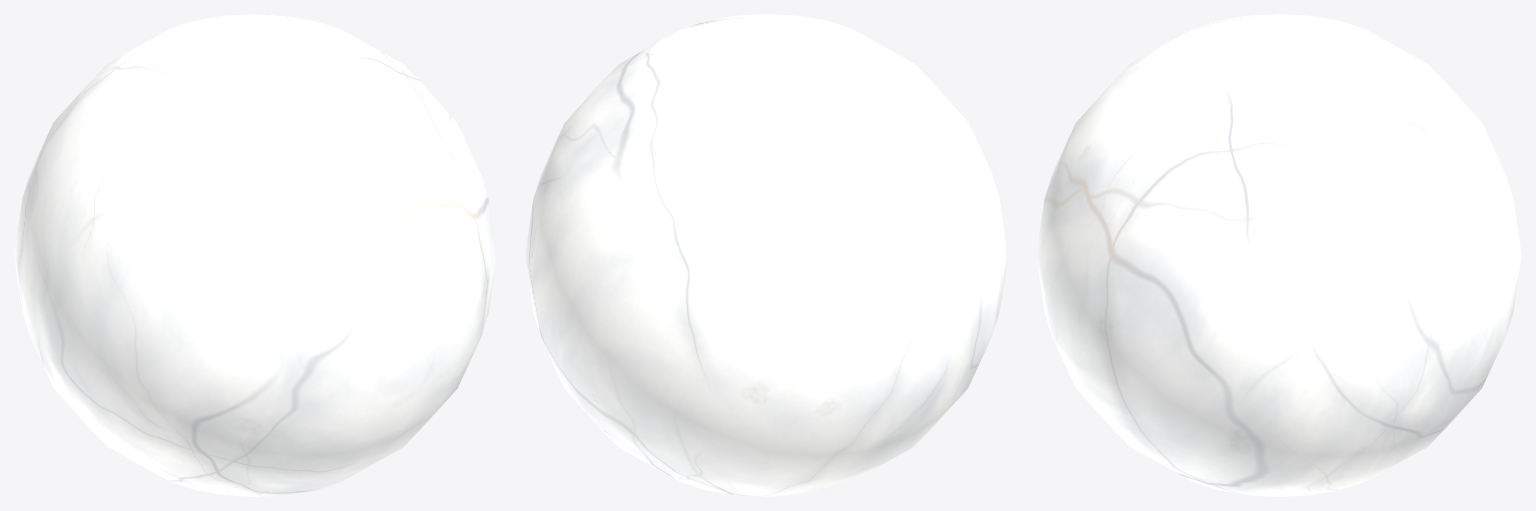
Rendered from level.gltf.
3 renders of one model, left to right at view 1: azimuth 30°, elevation 25°; view 2: azimuth 150°, elevation 25°; view 3: azimuth 270°, elevation 25°, orthographic.
Visible parts, largest first — view 1: P_Ball_Stone_MF; view 2: P_Ball_Stone_MF; view 3: P_Ball_Stone_MF.
Part boxes in pixels (left/top/right/bottom): P_Ball_Stone_MF: left=14, top=14, right=496, bottom=496; P_Ball_Stone_MF: left=525, top=14, right=1007, bottom=496; P_Ball_Stone_MF: left=1036, top=14, right=1521, bottom=496.
Bounding box in the file's own units: 3.98 × 4 × 4.
Materials: 1 (1 with a texture image).
